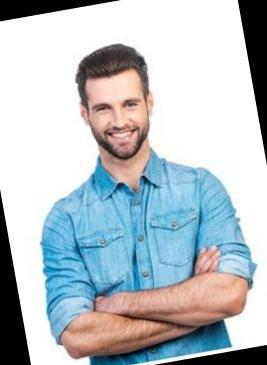Sober: (83, 74, 148, 155)
